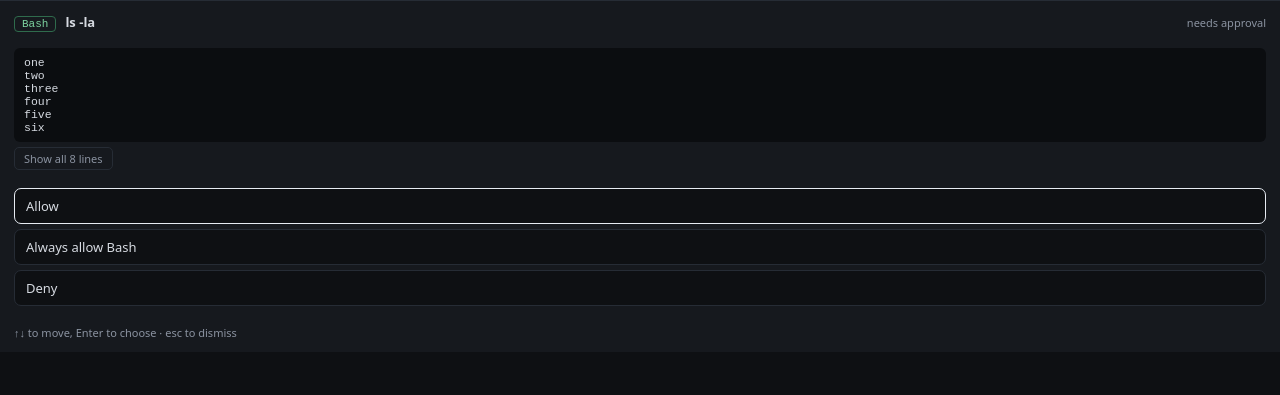
a permission card › collapses a long tool input until it is asked for
This screenshot has width=1280, height=395.
Click the button "Show all 8 lines": (63, 158) [14,147,113,170]
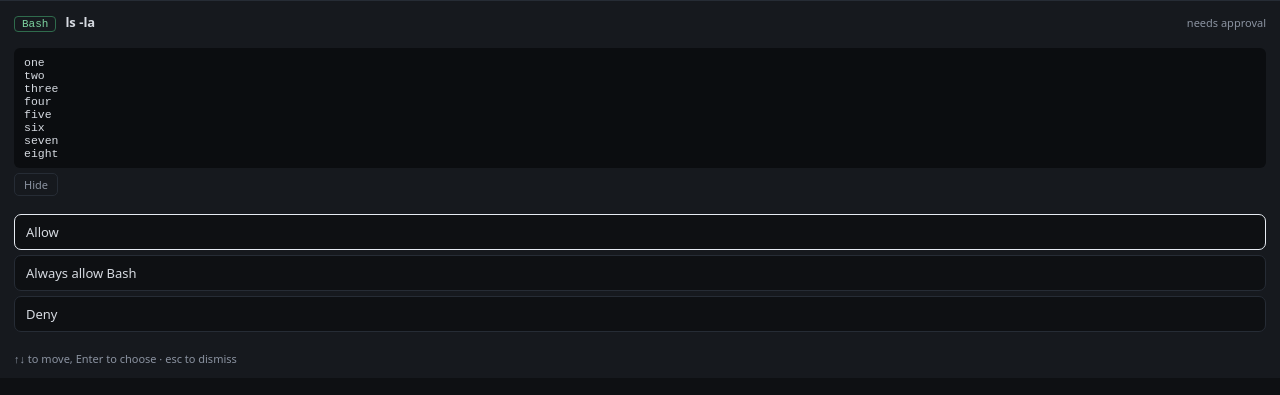
Now the button "Hide" is shown, box [14,173,58,196]
